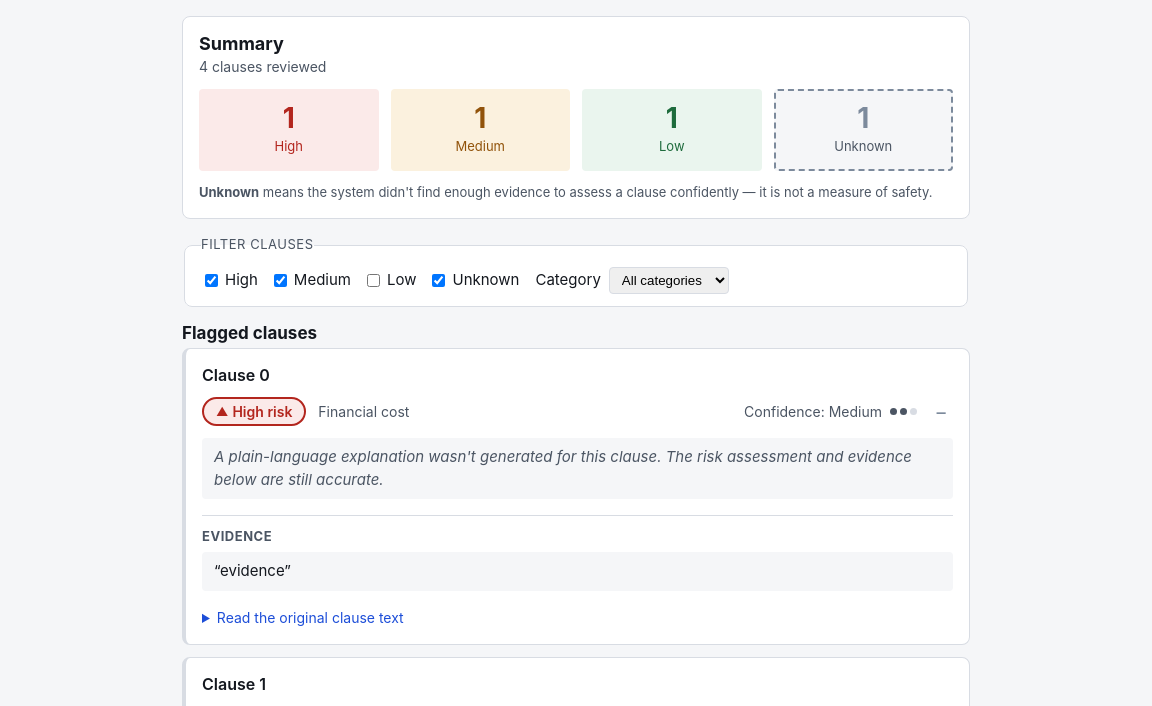
it: ReportView › checking the LOW filter reveals the low-risk section
Click the checkbox labelled "Low".
click(374, 280)  # box [367,274,380,287]
(page scrolled)
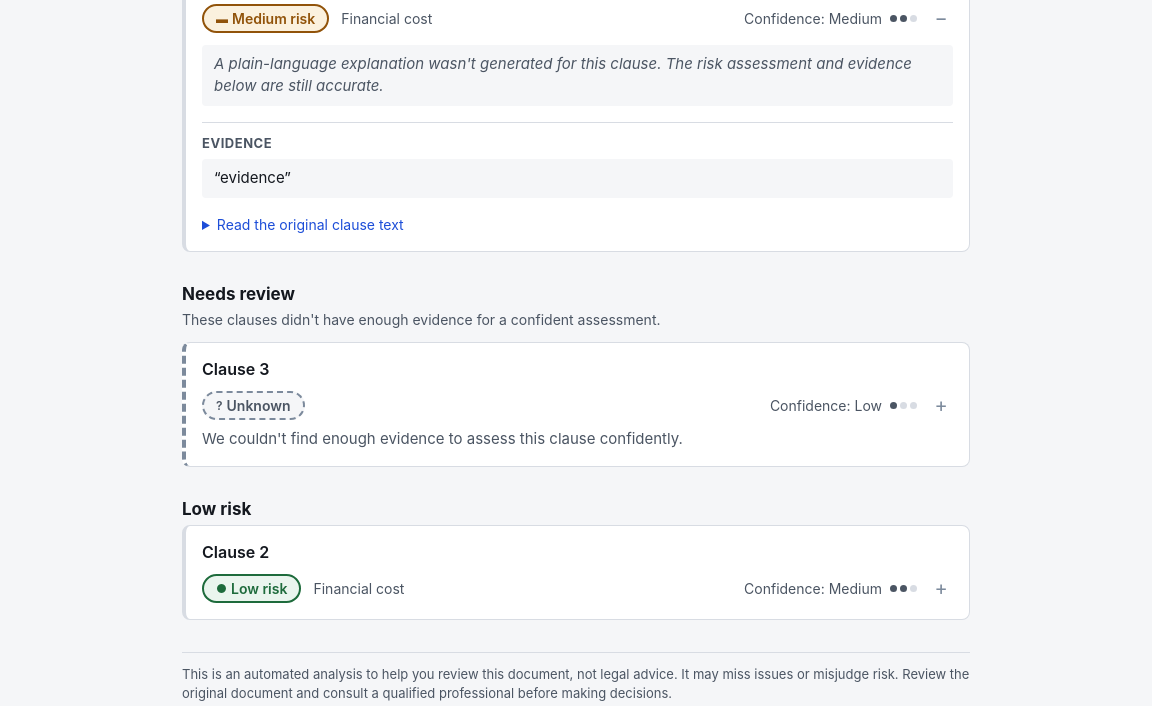
Check: the heading "Low risk" is shown, box [182,499,251,519]
